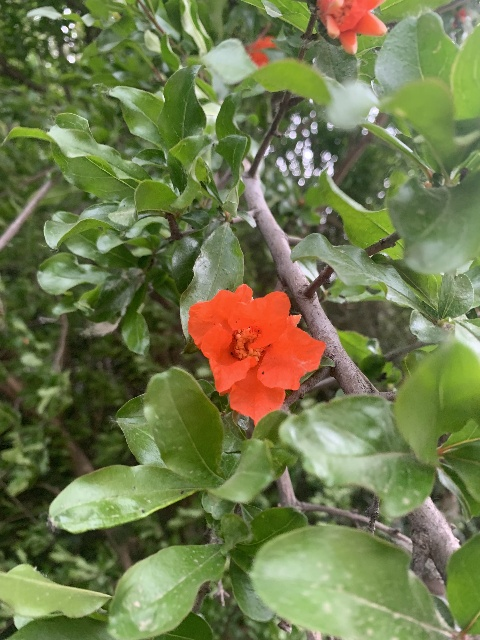flower: (187, 283, 324, 425), (315, 0, 391, 54)
